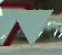Give way: (0, 1, 43, 46)
